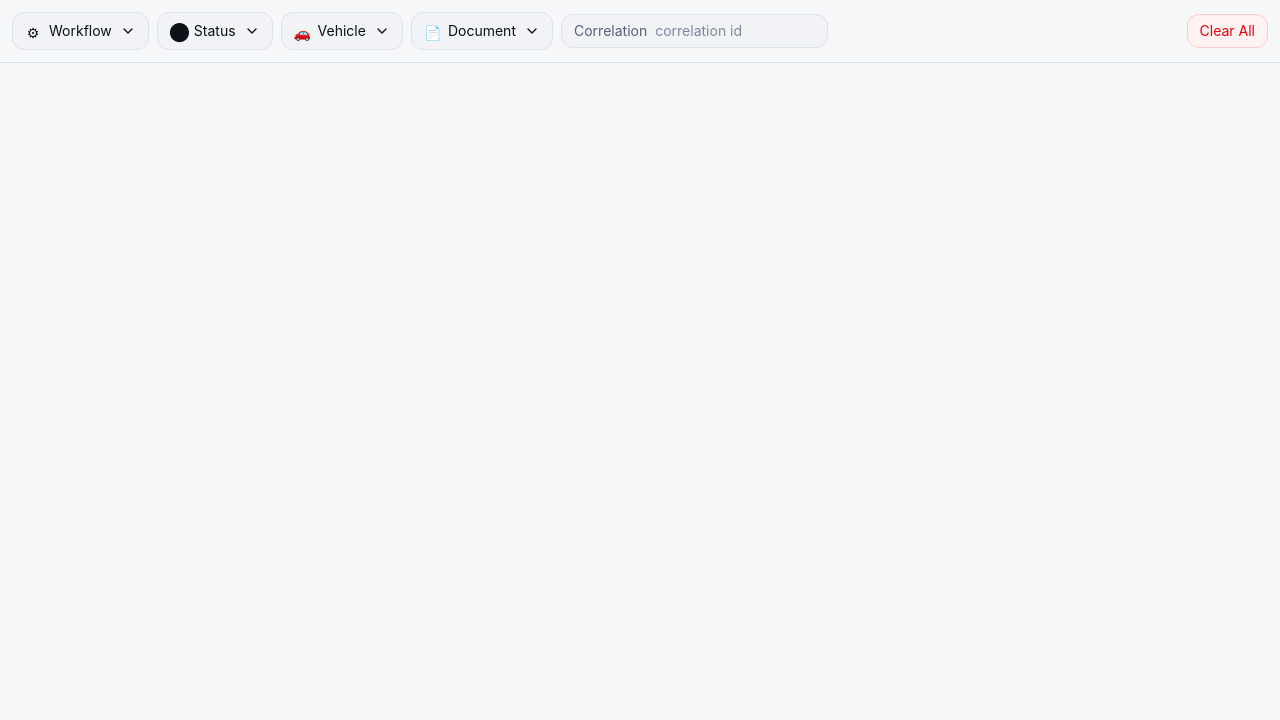
Test: Workflow Monitor filter dropdowns › closes the menu on an outside click
Click the button with aria-label "filter by workflow" at (80, 31), box 12,12 -> 149,50
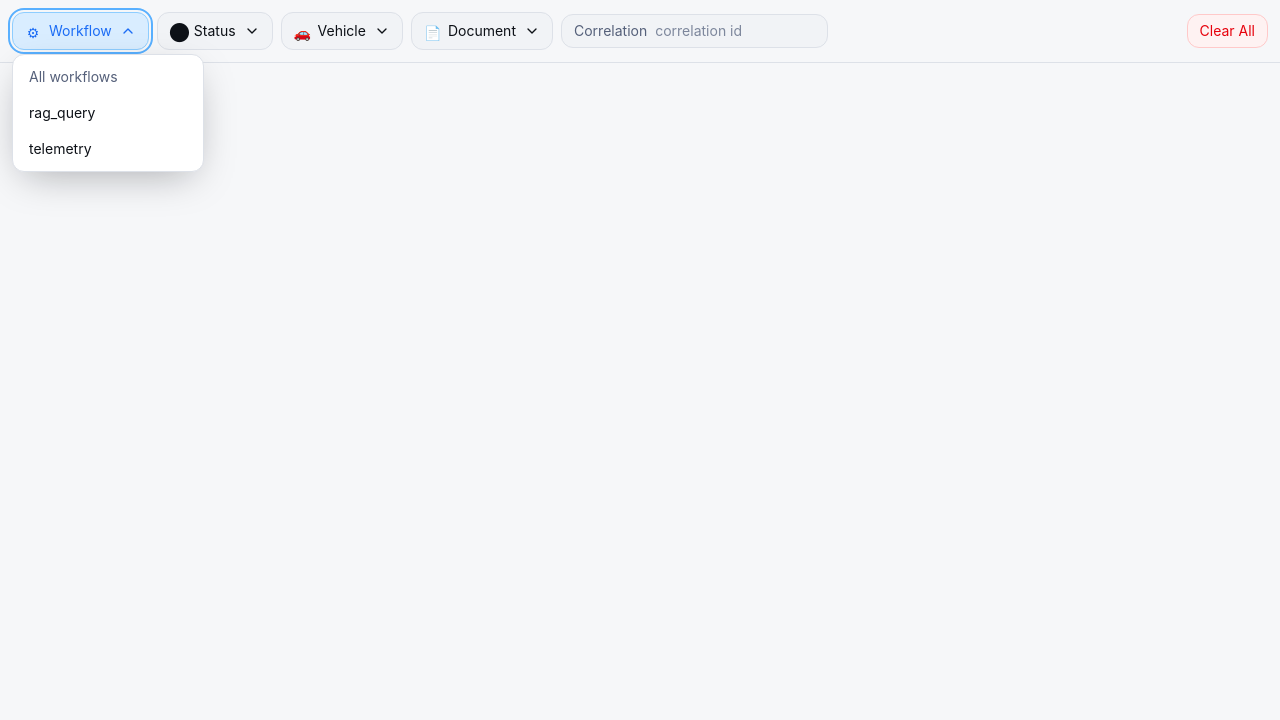
expect the button "All workflows" is shown: met, box 17,59 -> 199,95
Click the element that starts with "Workflow" at (640, 360), box 0,0 -> 1279,719
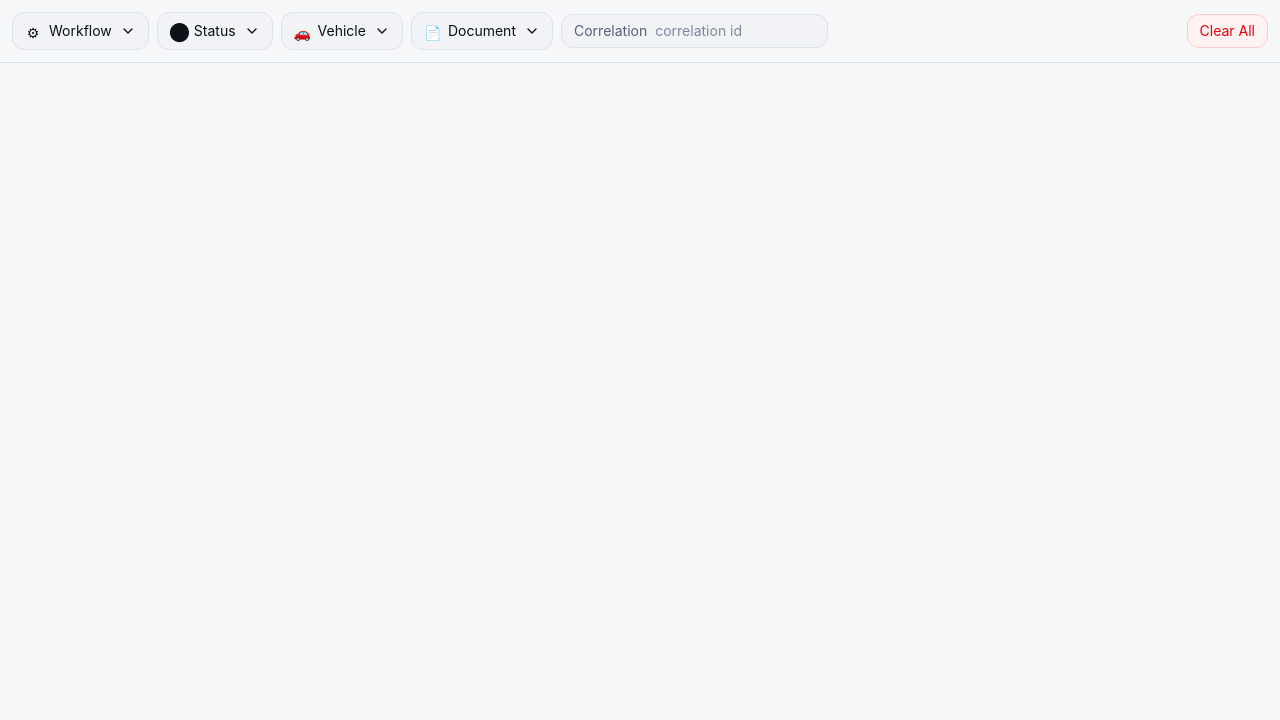
expect the button "All workflows" is gone: met
